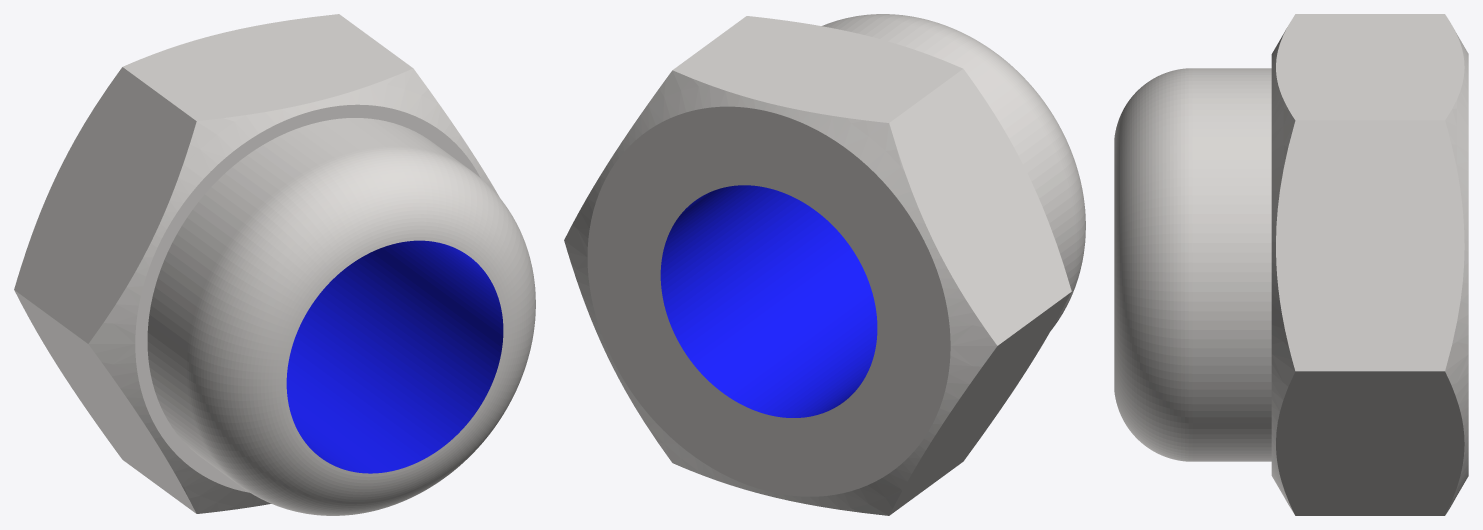
Rendered from m3-nyloc.glb.
3 views of the same model, side by side, from view 1: azimuth 30°, elevation 25°; view 2: azimuth 150°, elevation 25°; view 3: azimuth 270°, elevation 25° (orthographic).
Parts seen in each view (by area): view 1: Node1, Node2; view 2: Node1, Node2; view 3: Node1.
Boxes of the visible parts, <box> form: Node1: <box>14,14,535,515</box>; Node2: <box>286,240,503,473</box>; Node1: <box>564,14,1085,515</box>; Node2: <box>660,185,877,417</box>; Node1: <box>1114,14,1468,515</box>.
Size of the model in its own units: 6.4 by 5.54 by 4.5.
